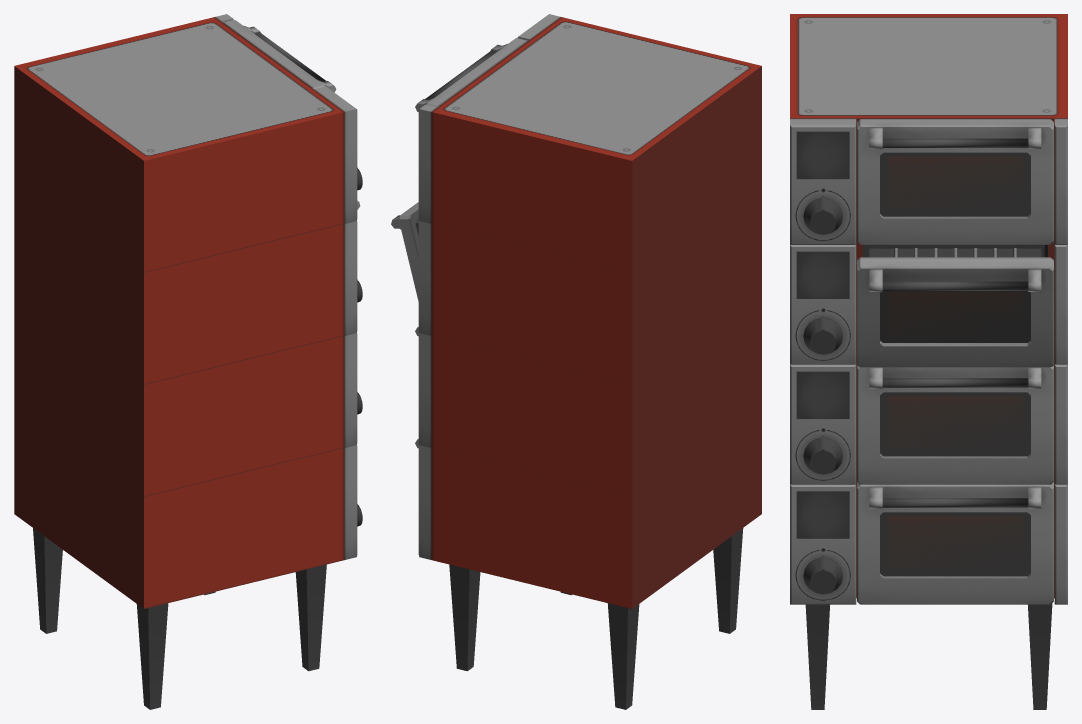
The model's file is ovenopen3.gltf.
3 views of the same model, side by side, from view 1: azimuth 30°, elevation 25°; view 2: azimuth 150°, elevation 25°; view 3: azimuth 270°, elevation 25° (orthographic). The views are drawn at different scales.
Visible parts, largest first — view 1: Cube; view 2: Cube; view 3: Cube, Cube.003, Cube.006, Cube.012, Cube.009.
Boxes of the visible parts, x1=… form: Cube: x1=14, y1=14, x2=360, y2=709; Cube: x1=391, y1=14, x2=761, y2=709; Cube: x1=790, y1=14, x2=1067, y2=709; Cube.003: x1=803, y1=435, x2=842, y2=474; Cube.006: x1=803, y1=316, x2=842, y2=354; Cube.012: x1=803, y1=555, x2=842, y2=594; Cube.009: x1=803, y1=196, x2=842, y2=234.
Bounding box in the file's own units: 2.37 × 5 × 2.1.
